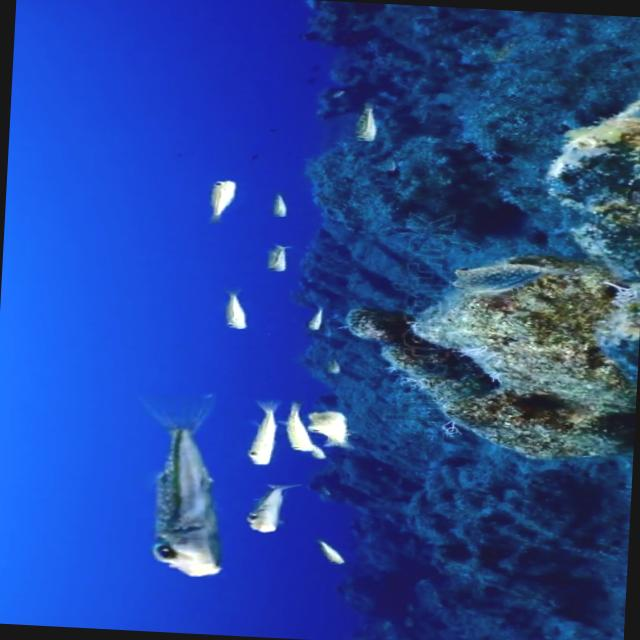Balon Baligi: (128, 385, 236, 584), (239, 476, 298, 536), (190, 174, 240, 230), (243, 394, 284, 462), (279, 390, 320, 456), (336, 104, 386, 154), (210, 286, 252, 332), (308, 535, 356, 569), (294, 300, 336, 332), (264, 240, 299, 278), (262, 188, 296, 218)
